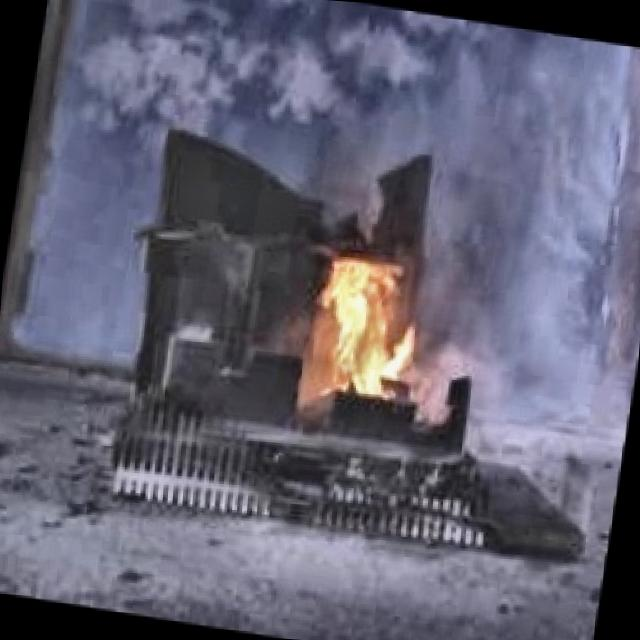fire: (295, 229, 456, 434)
